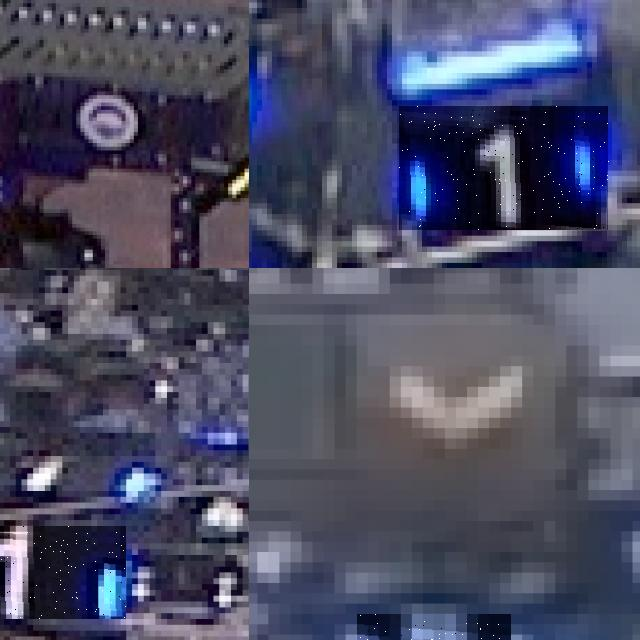B1: (400, 106, 610, 230), (0, 526, 126, 619)
B5: (356, 613, 511, 640)
